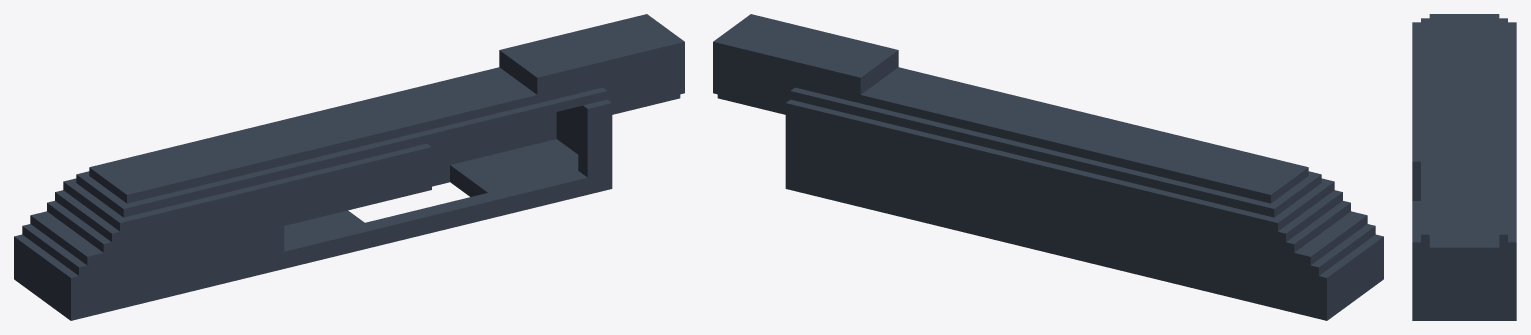
Rendered from receiver_ak.glb.
3 views of the same model, side by side, from view 1: azimuth 30°, elevation 25°; view 2: azimuth 150°, elevation 25°; view 3: azimuth 270°, elevation 25° (orthographic). The views are drawn at different scales.
Visible parts, largest first — view 1: receiver_ak:receiver; view 2: receiver_ak:receiver; view 3: receiver_ak:receiver.
Boxes of the visible parts, <box> form: receiver_ak:receiver: <box>14,14,684,320</box>; receiver_ak:receiver: <box>713,14,1383,320</box>; receiver_ak:receiver: <box>1412,14,1516,320</box>.
Bounding box in the file's own units: 0.304 × 0.056 × 0.048.
